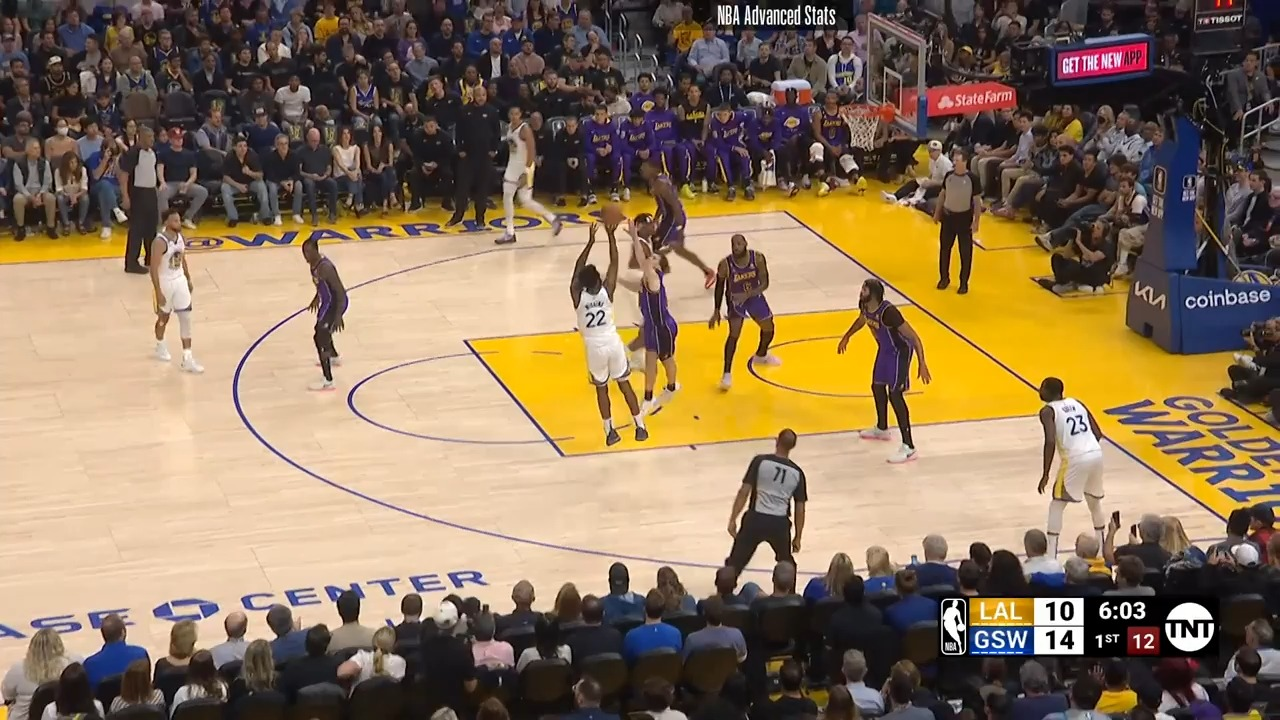net: (832, 87, 898, 153)
player: (833, 274, 932, 463), (567, 256, 646, 450), (1026, 373, 1111, 545), (628, 200, 695, 412), (641, 160, 722, 304), (706, 235, 776, 398), (289, 227, 352, 396), (494, 101, 565, 250), (144, 211, 205, 381)
referee: (711, 427, 811, 596), (932, 141, 984, 297), (118, 121, 160, 275)
